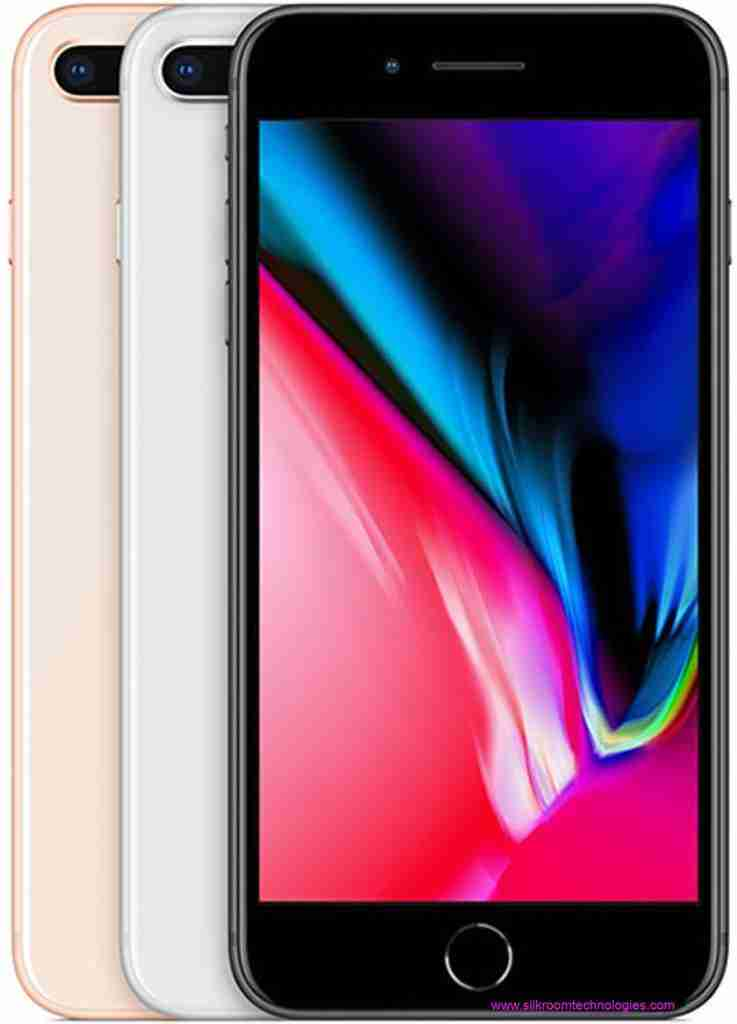phone: (215, 6, 737, 1019)
